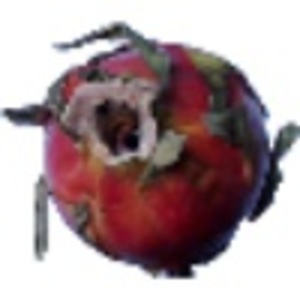pitaia: (1, 22, 300, 280)
